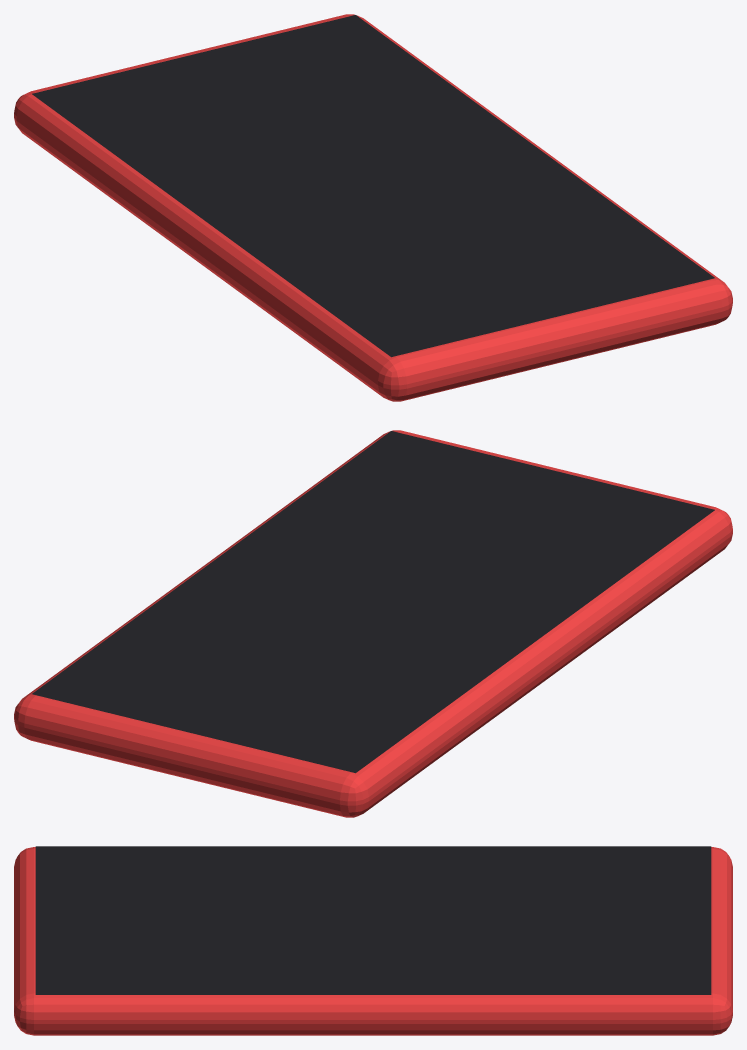
Rendered from Phone_606.glb.
The picture shows the model from 3 angles, top to bottom: view 1: azimuth 30°, elevation 25°; view 2: azimuth 150°, elevation 25°; view 3: azimuth 270°, elevation 25°; orthographic projection. The views are drawn at different scales.
Parts seen in each view (by area): view 1: Phone_Screen, Phone_Body; view 2: Phone_Screen, Phone_Body; view 3: Phone_Screen, Phone_Body.
Boxes of the visible parts, left/top/right/bottom form: Phone_Screen: left=32, top=15, right=714, bottom=357; Phone_Body: left=14, top=14, right=732, bottom=401; Phone_Screen: left=32, top=431, right=714, bottom=773; Phone_Body: left=14, top=430, right=732, bottom=817; Phone_Screen: left=35, top=846, right=711, bottom=994; Phone_Body: left=14, top=847, right=732, bottom=1035.
Bounding box in the file's own units: 0.0756 × 0.0089 × 0.1422.
